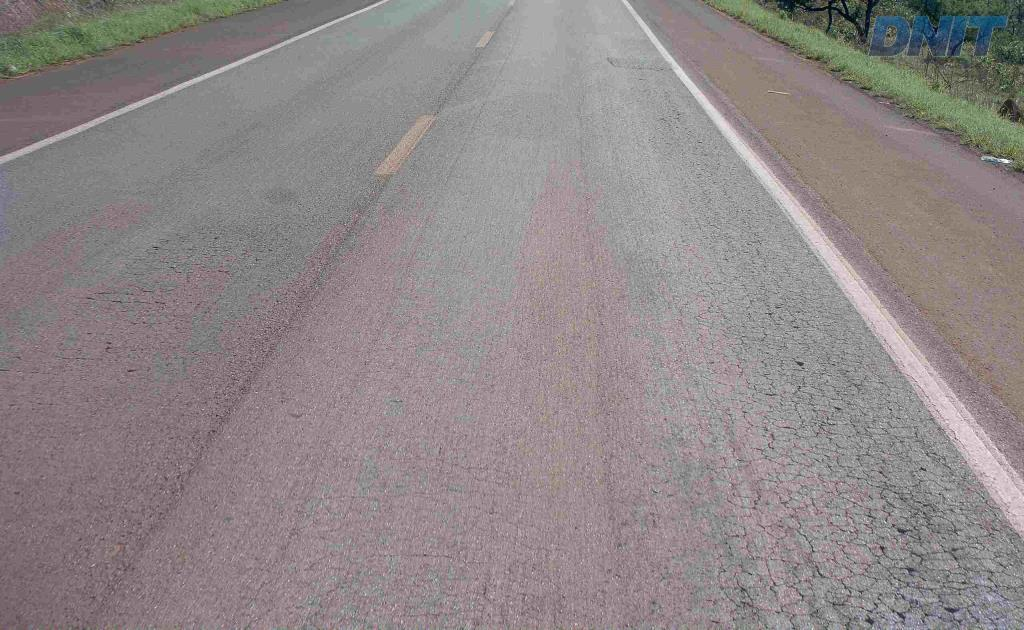crack: (724, 577, 768, 626)
